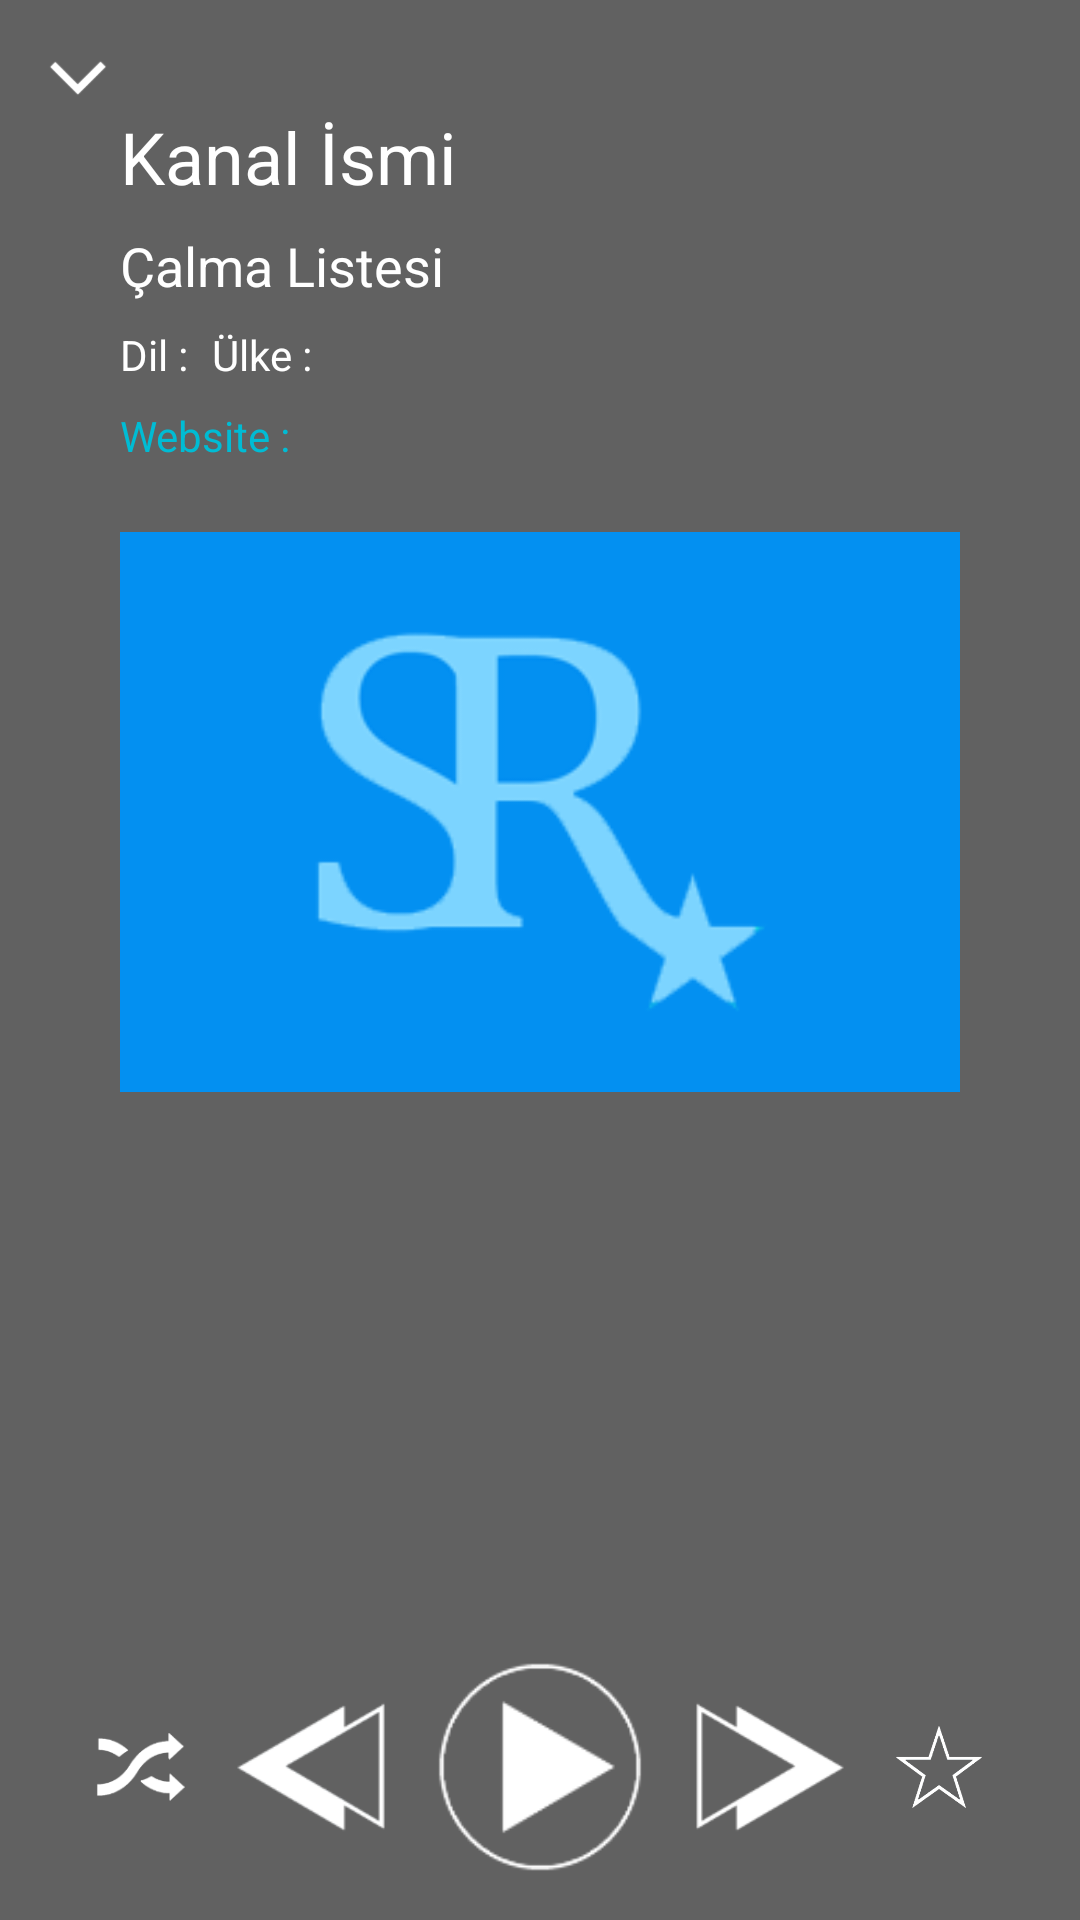

Screen size 1080*1920. Icon name, then its center in pixels as (x,y):
arrow down: (78,78)
favori off: (939,1767)
next sc: (770,1767)
play: (540,1767)
previous sc: (311,1767)
random off: (141,1767)
